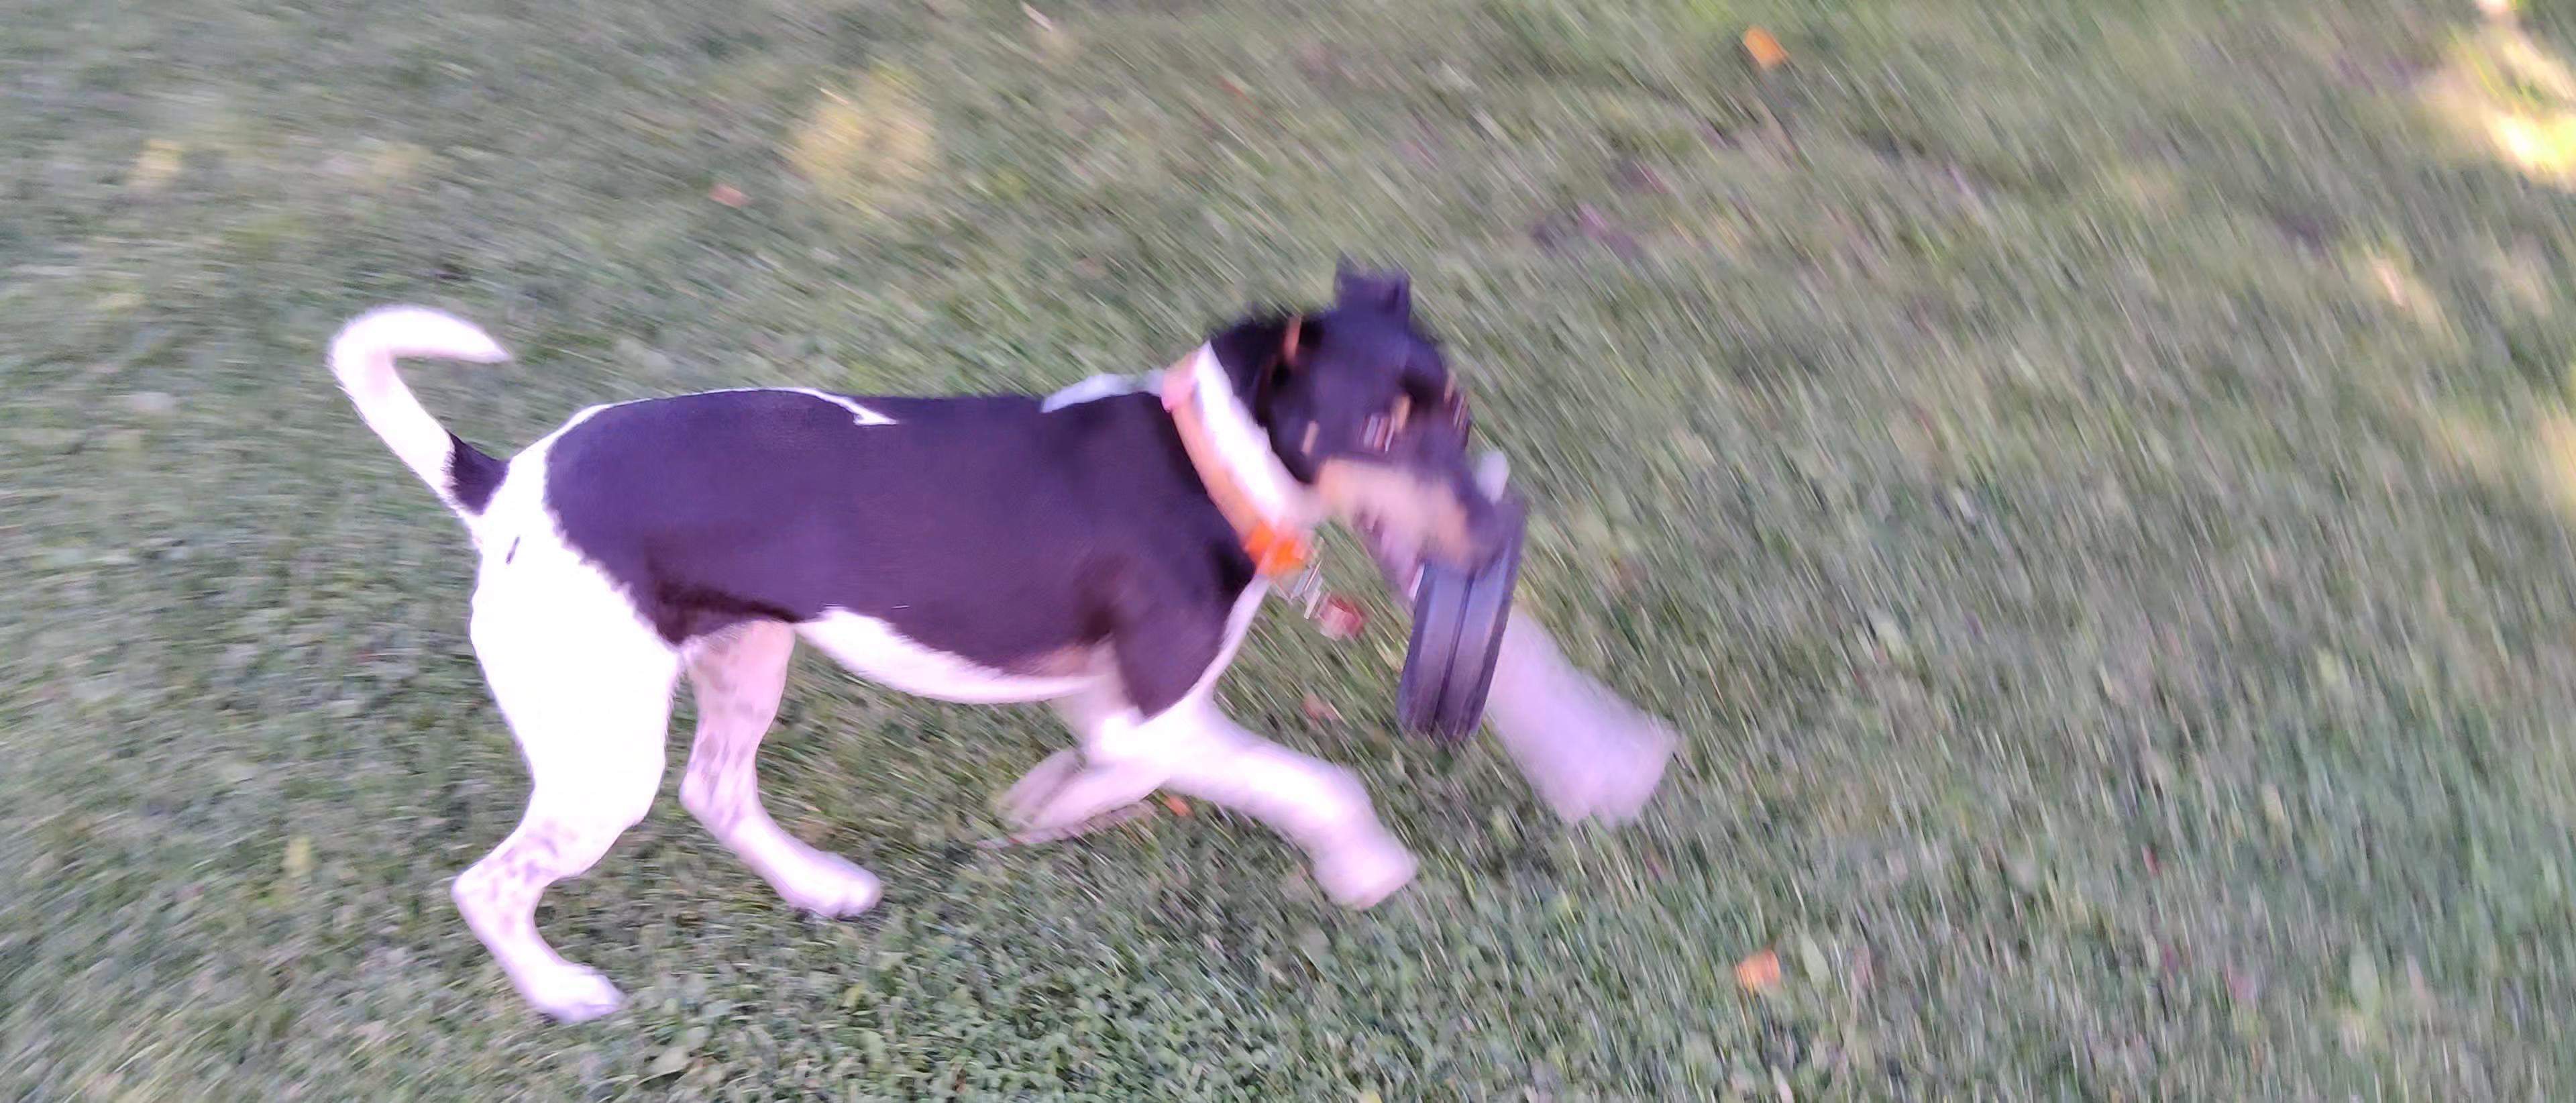Dog: (289, 248, 1577, 1031)
